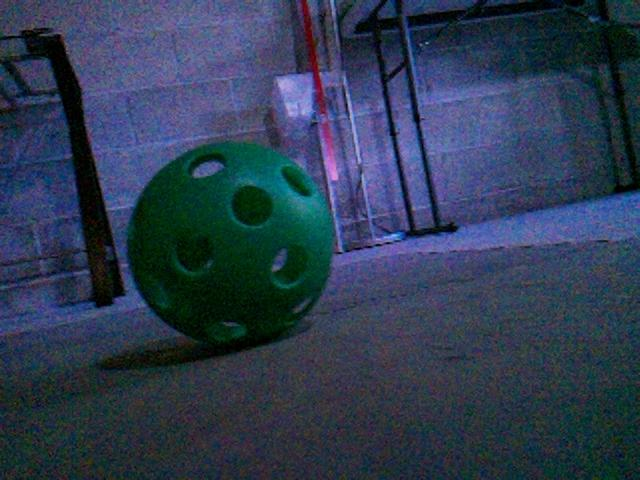Green: (120, 138, 337, 348)
